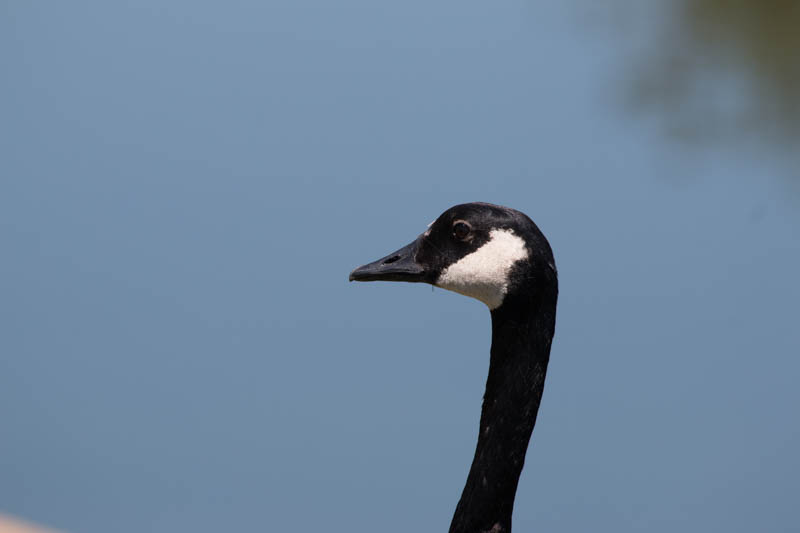goose-head: (348, 202, 559, 314)
